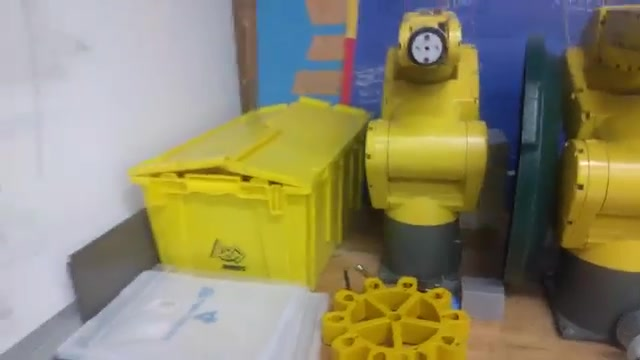gear: (317, 279, 471, 360)
